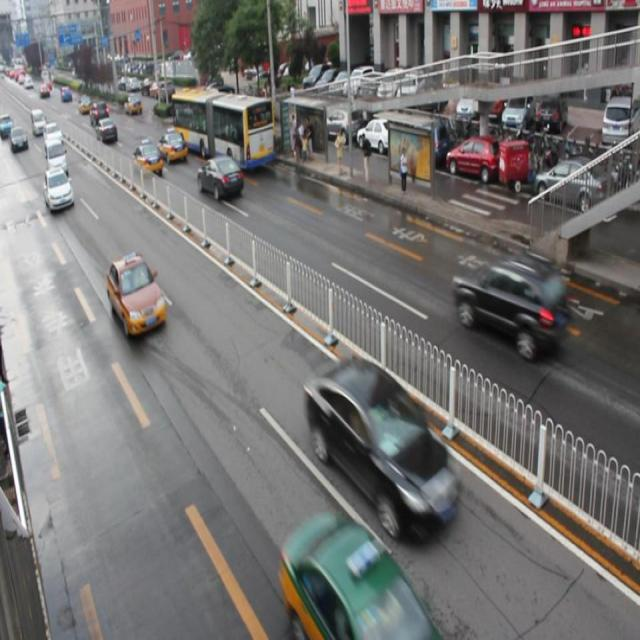car: (304, 359, 460, 542), (282, 515, 440, 640), (453, 254, 571, 358), (106, 251, 167, 338), (196, 157, 242, 199), (44, 168, 74, 212), (132, 138, 162, 176), (157, 128, 186, 164)
van: (172, 86, 273, 171)
